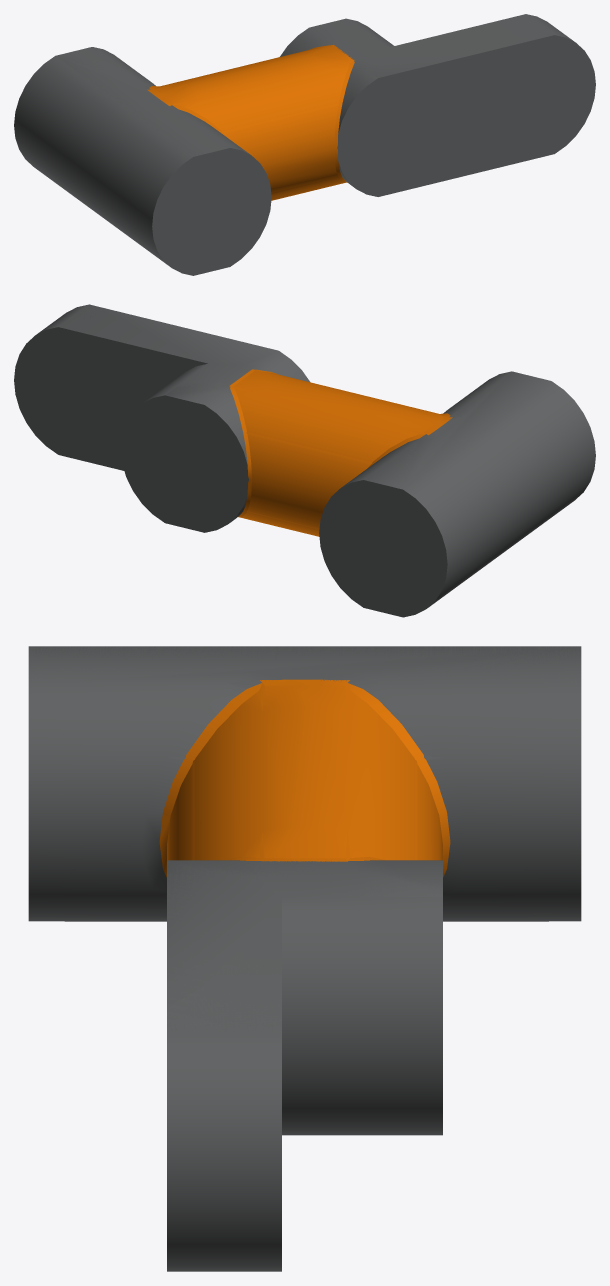
3 views of the same model, one above another, from view 1: azimuth 30°, elevation 25°; view 2: azimuth 150°, elevation 25°; view 3: azimuth 270°, elevation 25° (orthographic). The views are drawn at different scales.
Parts seen in each view (by area): view 1: e1_LOD0, e1_col; view 2: e1_LOD0, e1_col; view 3: e1_LOD0, e1_col.
Boxes of the visible parts, x1,y1,x2,y2 form: e1_LOD0: (14,14,595,275); e1_col: (55,14,595,275); e1_LOD0: (14,304,595,617); e1_col: (14,305,493,614); e1_LOD0: (28,646,581,1271); e1_col: (29,646,581,1032).
Size of what is drawn, in the model's own units: 48 by 11.67 by 24.
